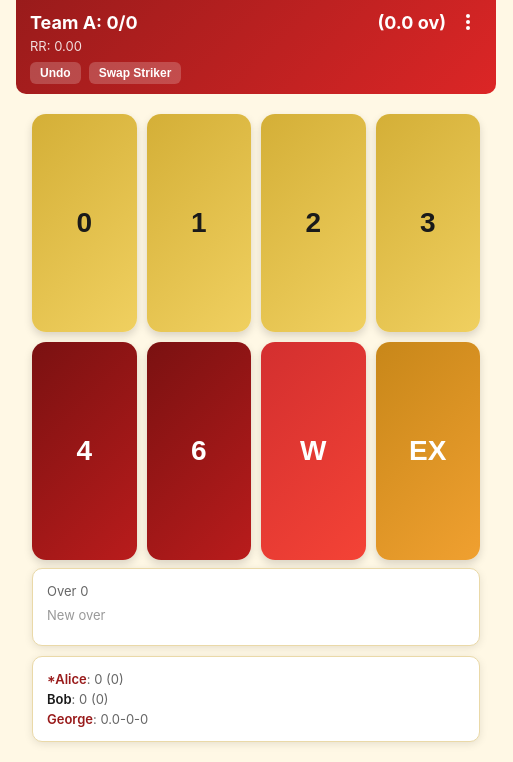
Scenario: ScoringV2 - scoring core › undo removes the last ball
What coordinates should you click on to do the following:
click the button "4"
I would click on:
 (84, 451)
Its box is 32,342 -> 136,560.
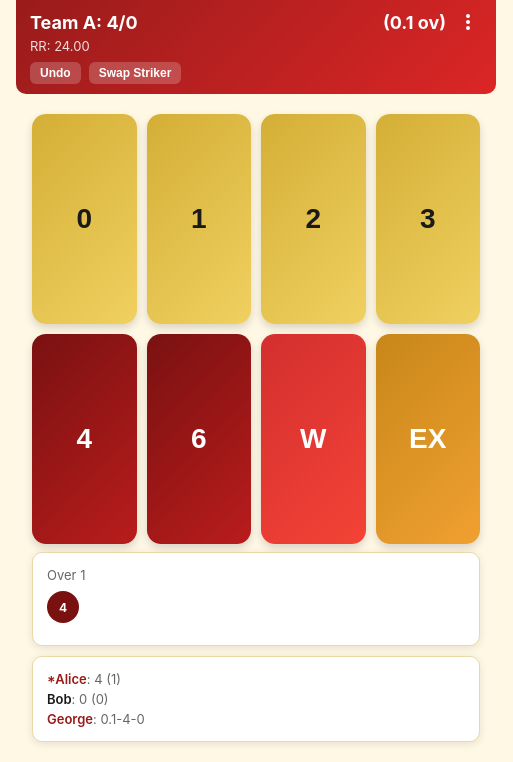
Expected: the text "Team A: 4/0" is shown, 30,12 -> 138,32
What coordinates should you click on to do the following:
click the button "Undo"
I would click on:
 (55, 73)
Its box is 30,62 -> 81,84.
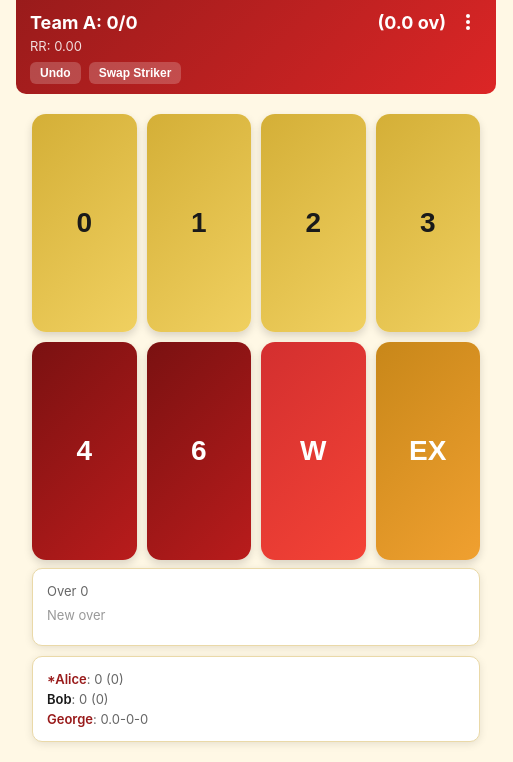
Expected: the text "Team A: 0/0" is shown, 30,12 -> 138,32
